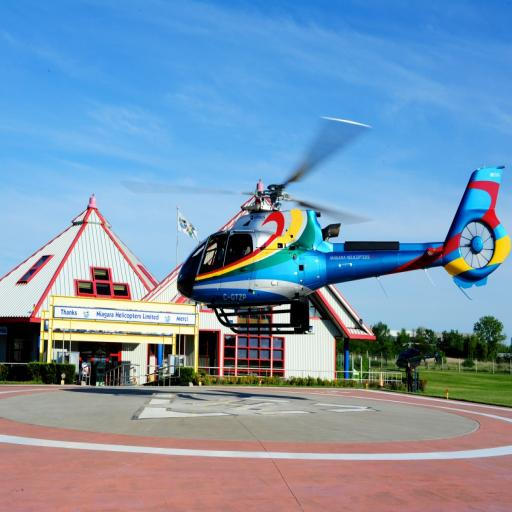helicopter: (181, 115, 512, 338)
